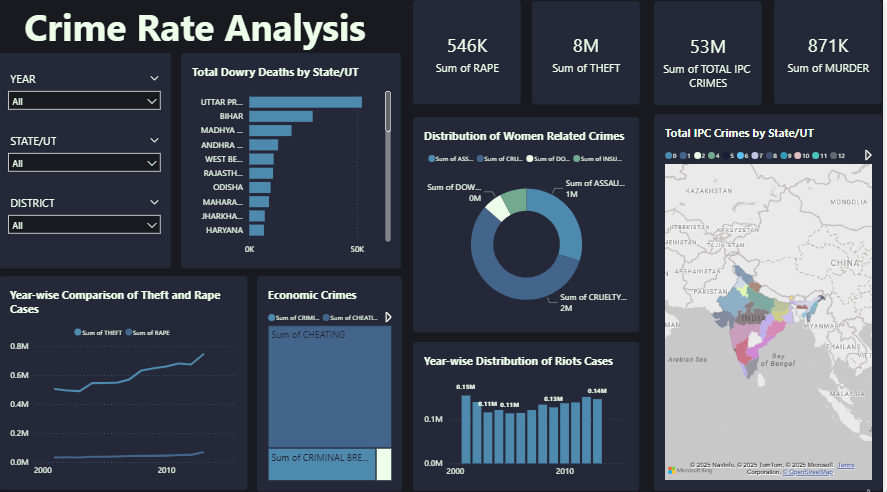

Layout of this report page (visuals, bound fields, positions):
{"tool":"powerbi","page":{"name":"Page 1","canvas":[1280,720],"ordinal":0},"visuals":[{"type":"card","fields":{"Values":["Sum(Crimes_in_india_2001-2013.RAPE)"]},"box":[599.7,0,156.2,151.2],"z":0},{"type":"card","fields":{"Values":["Sum(Crimes_in_india_2001-2013.THEFT)"]},"box":[772.7,1.7,156.2,149.5],"z":1},{"type":"card","fields":{"Values":["Sum(Crimes_in_india_2001-2013.TOTAL IPC CRIMES)"]},"box":[949.1,1.7,156.2,151.2],"z":2},{"type":"card","fields":{"Values":["Sum(Crimes_in_india_2001-2013.MURDER)"]},"box":[1123.8,0,156.2,151.2],"z":3},{"type":"textbox","box":[0,1.7,567.8,75.6],"z":4},{"type":"shape","box":[0,77.3,248.6,312.4],"z":5},{"type":"slicer","fields":{"Values":["Crimes_in_india_2001-2013.YEAR"]},"box":[6.7,102.5,233.5,68.9],"z":6},{"type":"slicer","fields":{"Values":["Crimes_in_india_2001-2013.STATE/UT"]},"box":[6.7,193.2,233.5,73.9],"z":7},{"type":"slicer","fields":{"Values":["Crimes_in_india_2001-2013.DISTRICT"]},"box":[6.7,282.2,233.5,77.3],"z":8},{"type":"lineChart","title":"Year-wise Comparison of Theft and Rape Cases","fields":{"Category":["Crimes_in_india_2001-2013.YEAR"],"Y":["Sum(Crimes_in_india_2001-2013.THEFT)","Sum(Crimes_in_india_2001-2013.RAPE)"]},"box":[0,400,360,310],"z":9},{"type":"clusteredBarChart","title":"Total Dowry Deaths by State/UT","fields":{"Category":["Crimes_in_india_2001-2013.STATE/UT"],"Y":["Sum(Crimes_in_india_2001-2013.DOWRY DEATHS)"]},"box":[263.7,77.3,319.2,312.4],"z":10},{"type":"filledMap","title":"Total IPC Crimes by State/UT","fields":{"Category":["Crimes_in_india_2001-2013.STATE/UT"],"Series":["Crimes_in_india_2001-2013.TOTAL IPC CRIMES"]},"box":[949.1,164.6,330.9,545.9],"z":11},{"type":"donutChart","title":"Distribution of Women Related Crimes","fields":{"Y":["Sum(Crimes_in_india_2001-2013.ASSAULT ON WOMEN WITH INTENT TO OUTRAGE HER MODESTY)","Sum(Crimes_in_india_2001-2013.CRUELTY BY HUSBAND OR HIS RELATIVES)","Sum(Crimes_in_india_2001-2013.DOWRY DEATHS)","Sum(Crimes_in_india_2001-2013.INSULT TO MODESTY OF WOMEN)"]},"box":[600,170,328,312],"z":12},{"type":"treemap","title":"Economic Crimes","fields":{"Values":["Sum(Crimes_in_india_2001-2013.CRIMINAL BREACH OF TRUST)","Sum(Crimes_in_india_2001-2013.CHEATING)","Sum(Crimes_in_india_2001-2013.COUNTERFIETING)"]},"box":[374,400,210,312],"z":13},{"type":"clusteredColumnChart","title":"Year-wise Distribution of Riots Cases","fields":{"Category":["Crimes_in_india_2001-2013.YEAR"],"Y":["Sum(Crimes_in_india_2001-2013.RIOTS)"]},"box":[600,496,328,216],"z":14}]}

Visuals, with their boxes in screenshot pixels (x1, y1, x2, y2), scaled from the page's 1280x720 canvas onto the 887x492 screenshot:
card - Sum(Crimes_in_india_2001-2013.RAPE): x1=416 y1=0 x2=524 y2=103
card - Sum(Crimes_in_india_2001-2013.THEFT): x1=535 y1=1 x2=644 y2=103
card - Sum(Crimes_in_india_2001-2013.TOTAL IPC CRIMES): x1=658 y1=1 x2=766 y2=104
card - Sum(Crimes_in_india_2001-2013.MURDER): x1=779 y1=0 x2=886 y2=103
textbox: x1=0 y1=1 x2=393 y2=53
shape: x1=0 y1=53 x2=172 y2=266
slicer - Crimes_in_india_2001-2013.YEAR: x1=5 y1=70 x2=166 y2=117
slicer - Crimes_in_india_2001-2013.STATE/UT: x1=5 y1=132 x2=166 y2=183
slicer - Crimes_in_india_2001-2013.DISTRICT: x1=5 y1=193 x2=166 y2=246
"Year-wise Comparison of Theft and Rape Cases" lineChart: x1=0 y1=273 x2=249 y2=485
"Total Dowry Deaths by State/UT" clusteredBarChart: x1=183 y1=53 x2=404 y2=266
"Total IPC Crimes by State/UT" filledMap: x1=658 y1=112 x2=886 y2=486
"Distribution of Women Related Crimes" donutChart: x1=416 y1=116 x2=643 y2=329
"Economic Crimes" treemap: x1=259 y1=273 x2=405 y2=487
"Year-wise Distribution of Riots Cases" clusteredColumnChart: x1=416 y1=339 x2=643 y2=487
